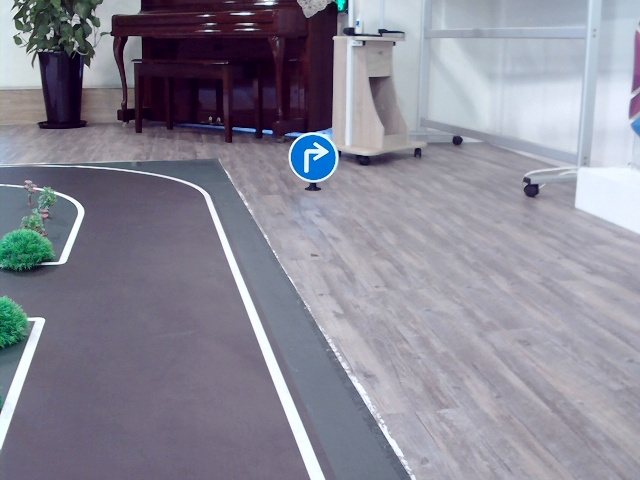turn_right: (297, 142, 327, 171)
